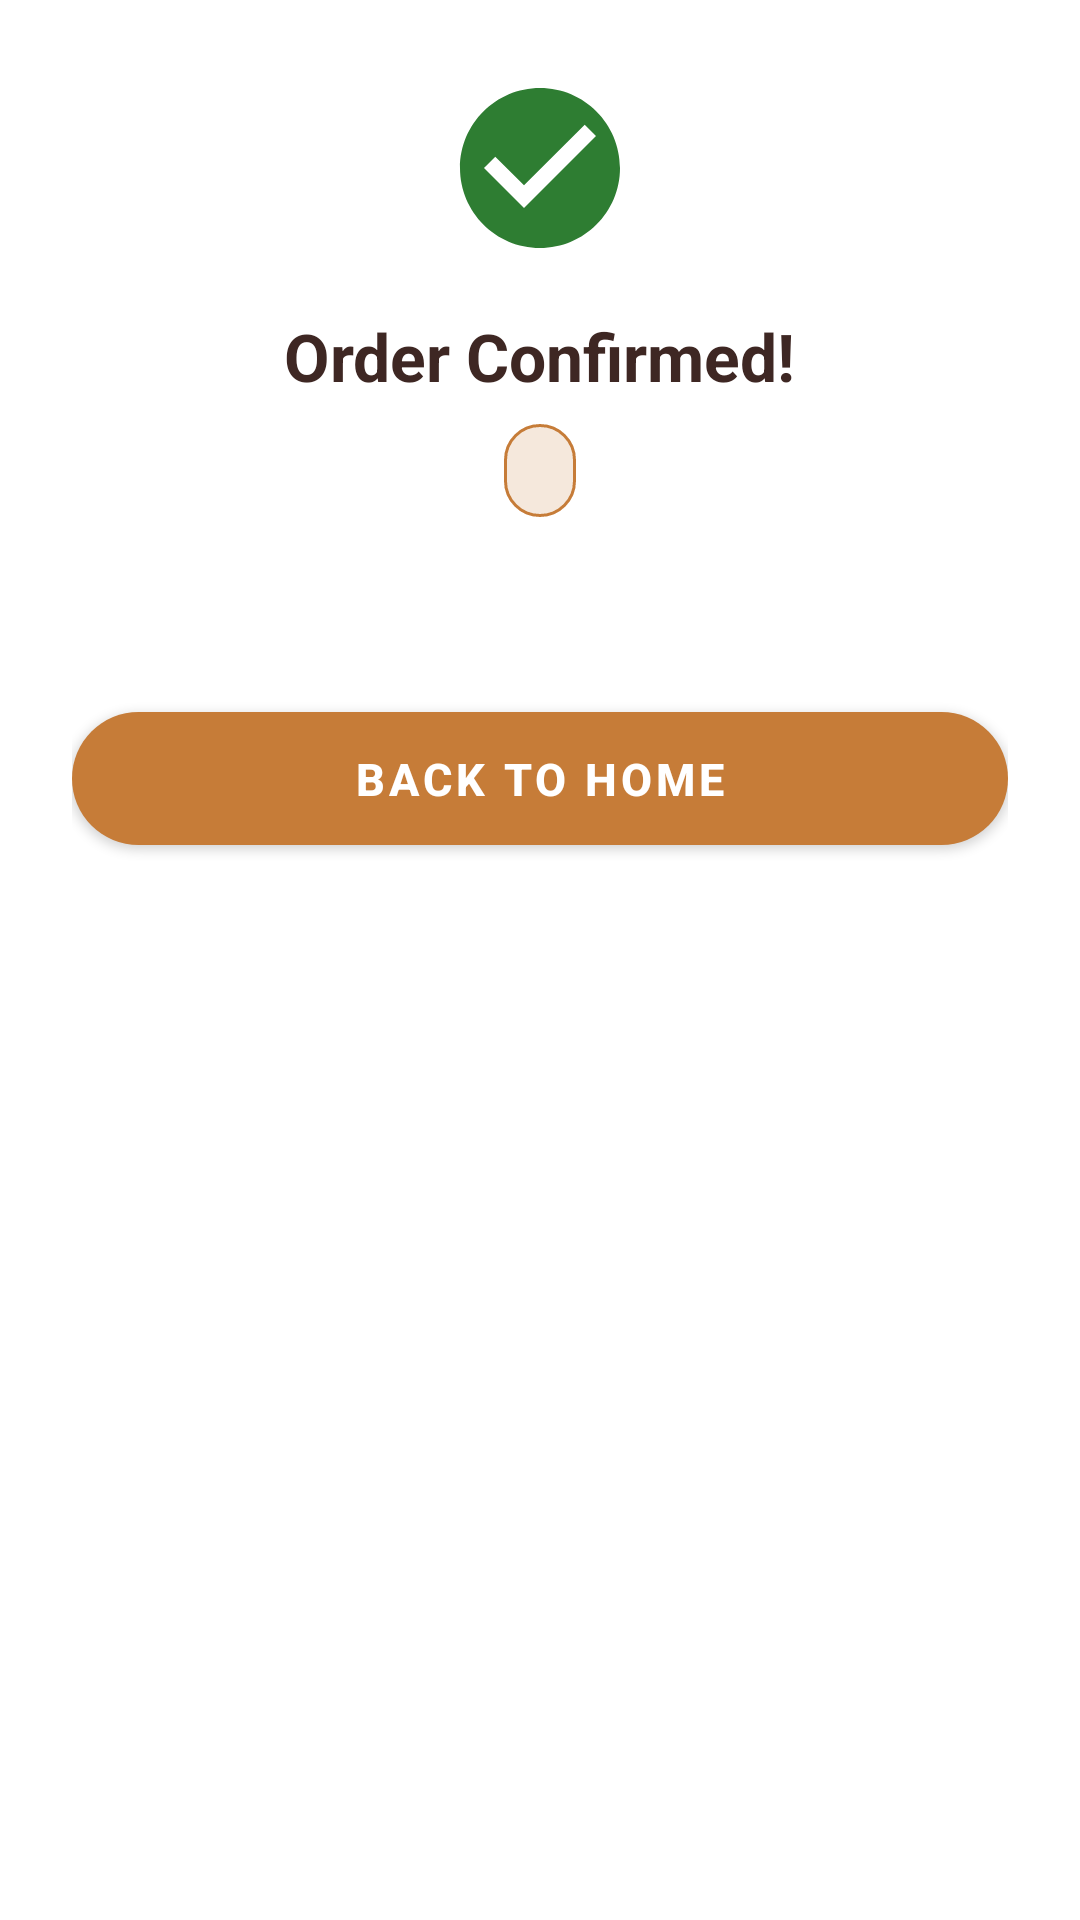

Named icons in this screenshot (1080 × 1920) and their centers, (x,y):
check circle: (540,168)
